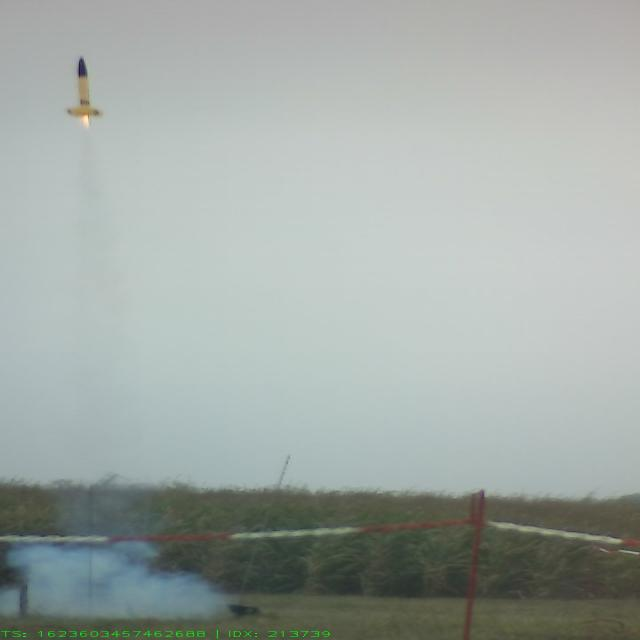Rocket: (65, 55, 103, 117)
